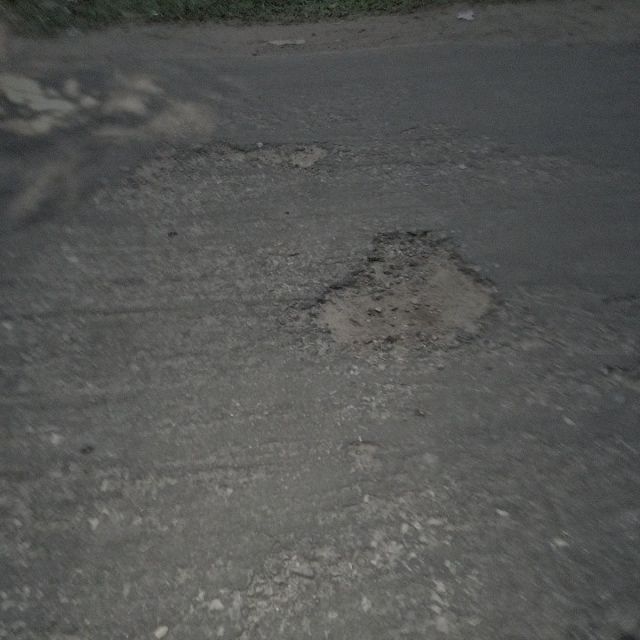pothole: (294, 226, 501, 358), (182, 138, 336, 169)
